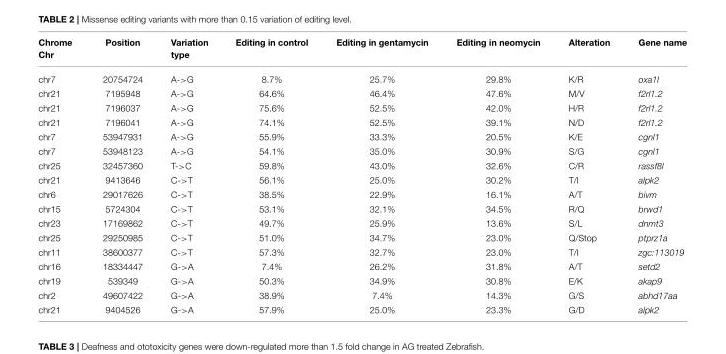table: (37, 37, 686, 314)
table column: (321, 37, 441, 314), (441, 37, 553, 314), (221, 37, 321, 314), (86, 37, 156, 314), (553, 37, 623, 314), (156, 37, 221, 314), (623, 37, 686, 314), (37, 37, 86, 314)
table column header: (37, 37, 686, 66)
table row: (37, 37, 686, 66), (37, 66, 686, 86), (37, 100, 686, 115), (37, 143, 686, 158), (37, 172, 686, 187), (37, 201, 686, 216), (37, 244, 686, 259), (37, 273, 686, 288), (37, 86, 686, 100), (37, 115, 686, 129), (37, 129, 686, 143), (37, 158, 686, 172), (37, 187, 686, 201), (37, 216, 686, 230), (37, 230, 686, 244), (37, 259, 686, 273), (37, 288, 686, 302), (37, 302, 686, 314)
